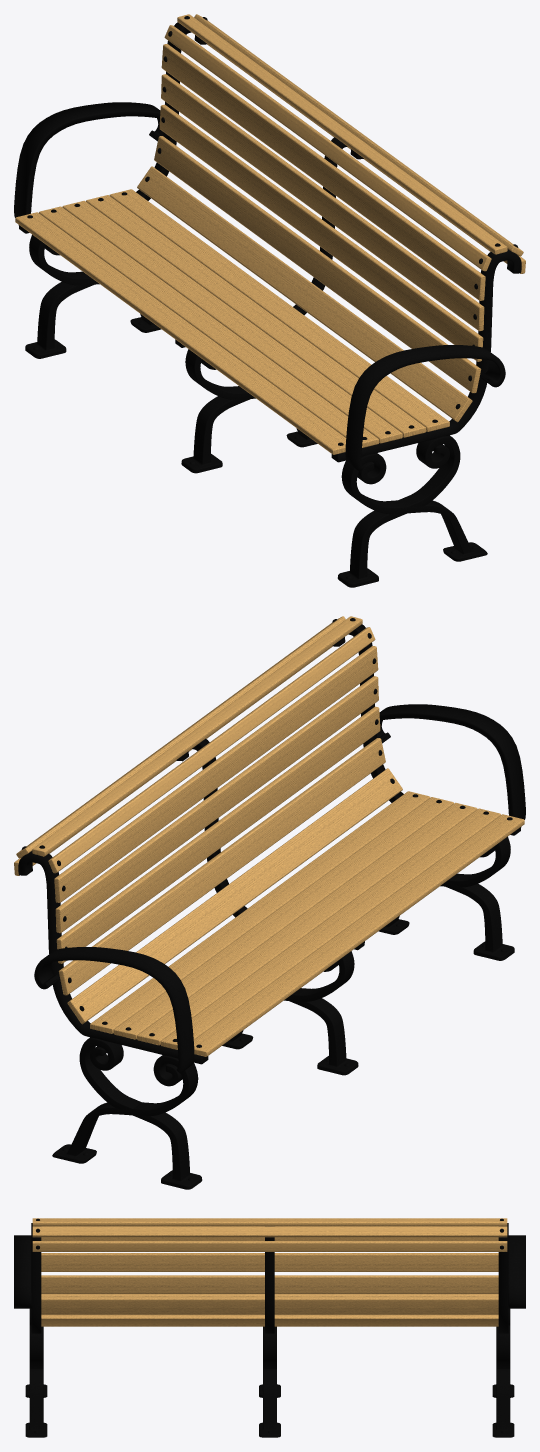
File: classic park bench.obj
3 renders of one model, top to bottom at view 1: azimuth 30°, elevation 25°; view 2: azimuth 150°, elevation 25°; view 3: azimuth 270°, elevation 25°, orthographic. The views are drawn at different scales.
Parts seen in each view (by area): view 1: clasic_park_bench_001; view 2: clasic_park_bench_001; view 3: clasic_park_bench_001.
Part boxes in pixels (bbox=[...]): clasic_park_bench_001: bbox=[14, 14, 525, 587]; clasic_park_bench_001: bbox=[14, 616, 525, 1189]; clasic_park_bench_001: bbox=[14, 1218, 525, 1437].
Bounding box in the file's own units: 75.91 × 112 × 232.
Materials: 2 (2 with a texture image).
